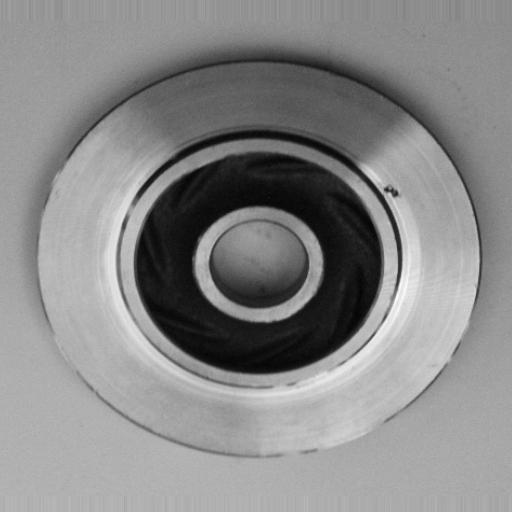crack: (375, 174, 411, 209)
scratch: (255, 366, 352, 398)
unpolished_casting: (37, 56, 483, 465)
